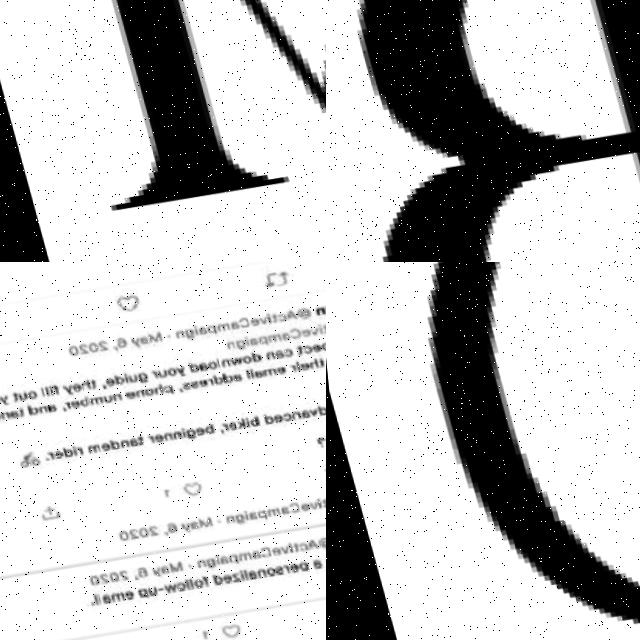0: (83, 342, 94, 352), (63, 345, 74, 355), (129, 526, 139, 537), (79, 573, 90, 583), (109, 530, 119, 540), (99, 570, 109, 580)
1: (192, 629, 199, 638), (157, 487, 163, 496)
2: (89, 571, 99, 582), (93, 340, 103, 350), (139, 525, 149, 535), (119, 528, 129, 538), (73, 343, 82, 354), (109, 568, 118, 578)
6: (111, 337, 122, 347), (127, 566, 138, 576), (158, 521, 168, 531)
A: (297, 537, 312, 548), (281, 308, 292, 319), (294, 407, 305, 417), (248, 367, 258, 377), (122, 436, 132, 446), (225, 320, 235, 329), (193, 325, 203, 334), (277, 330, 287, 339), (244, 336, 254, 345), (270, 348, 280, 357), (193, 361, 203, 370), (3, 409, 13, 418), (181, 520, 191, 529), (242, 549, 252, 558), (151, 564, 161, 573), (304, 557, 313, 567), (238, 568, 248, 577), (92, 593, 102, 602), (135, 335, 144, 344), (228, 371, 237, 380), (41, 402, 50, 411), (273, 505, 282, 514), (210, 554, 219, 563), (241, 511, 250, 518), (320, 403, 326, 412)
B: (242, 415, 253, 425), (74, 395, 83, 405), (198, 422, 207, 432)
C: (285, 326, 298, 338), (234, 316, 247, 327), (279, 501, 292, 512), (251, 544, 264, 554), (278, 347, 289, 356), (289, 541, 300, 550), (298, 344, 308, 353), (276, 411, 286, 420), (273, 311, 282, 320), (319, 495, 326, 504), (323, 321, 326, 330)
D: (108, 372, 120, 384), (256, 412, 268, 424), (208, 372, 218, 383), (246, 350, 256, 360), (184, 361, 194, 371), (217, 371, 227, 381), (23, 403, 33, 413), (311, 403, 321, 413), (103, 438, 113, 448), (56, 446, 66, 456), (203, 573, 213, 583)
E: (246, 316, 256, 326), (306, 342, 317, 351), (221, 420, 232, 429), (147, 432, 158, 441), (295, 360, 305, 369), (271, 364, 281, 373), (193, 377, 203, 386), (120, 389, 130, 398), (267, 412, 277, 421), (94, 442, 104, 451), (47, 449, 57, 458), (292, 501, 302, 510), (280, 561, 290, 570), (212, 573, 222, 582), (297, 327, 306, 336), (100, 377, 109, 386), (66, 382, 75, 391), (189, 425, 198, 434), (263, 545, 272, 554), (114, 589, 123, 598), (64, 399, 74, 406)
F: (46, 384, 54, 394), (192, 574, 199, 584)
G: (181, 328, 191, 338), (231, 338, 241, 348), (133, 372, 143, 382), (179, 428, 189, 438), (227, 513, 237, 523), (196, 557, 206, 567), (321, 303, 326, 313)
H: (75, 378, 85, 389), (304, 356, 314, 366), (148, 382, 157, 392), (322, 352, 326, 362)
I: (240, 334, 246, 345), (118, 372, 124, 382), (289, 359, 295, 369), (189, 325, 195, 334), (312, 323, 318, 332), (43, 386, 49, 395), (243, 367, 249, 376), (238, 416, 244, 425), (173, 427, 179, 436), (65, 445, 71, 454), (205, 553, 211, 562), (230, 569, 236, 578), (309, 497, 315, 506), (263, 313, 268, 322), (236, 510, 241, 519), (280, 541, 285, 549), (88, 594, 92, 602)
K: (230, 417, 239, 427)
L: (34, 386, 40, 396), (39, 386, 45, 395), (239, 368, 245, 377), (83, 593, 89, 602), (211, 357, 215, 366), (234, 568, 238, 577), (179, 577, 183, 586), (176, 578, 180, 586)
M: (0, 0, 326, 223), (80, 442, 95, 453), (143, 331, 158, 342), (159, 560, 174, 571), (211, 322, 227, 332), (228, 550, 244, 560), (99, 591, 115, 601), (263, 332, 278, 342), (189, 516, 204, 526), (257, 366, 273, 374), (82, 396, 98, 404), (257, 507, 273, 515), (315, 554, 326, 564)
N: (311, 305, 321, 314), (171, 329, 181, 338), (221, 340, 231, 349), (130, 388, 140, 397), (32, 404, 42, 413), (285, 409, 295, 418), (166, 429, 175, 439), (113, 438, 123, 447), (216, 357, 225, 366), (156, 431, 165, 440), (106, 392, 116, 399), (186, 559, 196, 566), (247, 568, 257, 575), (262, 351, 271, 358), (217, 515, 226, 522), (0, 410, 2, 418)
O: (420, 262, 640, 629), (203, 359, 212, 369), (162, 366, 172, 375), (256, 565, 266, 574), (185, 577, 194, 586), (167, 580, 176, 589), (22, 390, 32, 397), (138, 387, 148, 394), (237, 355, 246, 362)
P: (288, 560, 299, 570), (254, 335, 264, 345), (316, 340, 326, 350), (220, 553, 230, 563), (203, 324, 212, 334), (158, 383, 167, 393), (249, 509, 259, 518), (128, 588, 138, 597)
R: (57, 400, 65, 409), (40, 450, 47, 460), (285, 362, 292, 371), (215, 422, 222, 431), (141, 434, 148, 443), (69, 446, 76, 455), (274, 563, 281, 572), (146, 370, 153, 377), (202, 377, 208, 384)
S: (176, 380, 186, 389), (184, 378, 193, 387), (265, 564, 274, 573), (324, 338, 326, 347)
T: (317, 322, 325, 332), (266, 312, 274, 321), (318, 435, 326, 444), (292, 343, 299, 353), (6, 392, 13, 401), (314, 356, 321, 365), (11, 407, 18, 416), (313, 497, 320, 506), (85, 378, 91, 387), (132, 434, 138, 443), (284, 541, 290, 550)
U: (12, 391, 22, 400), (98, 394, 108, 401), (153, 369, 162, 376), (123, 374, 132, 381), (138, 586, 147, 593)
V: (305, 326, 315, 335), (302, 408, 312, 417), (271, 544, 280, 553), (254, 316, 264, 323), (301, 501, 310, 508)
W: (223, 355, 239, 365), (154, 583, 168, 591)
X: (323, 434, 326, 443)
Y: (170, 365, 180, 375), (58, 385, 68, 395), (126, 337, 136, 347), (143, 566, 153, 576), (173, 522, 182, 531)
Z: (221, 571, 231, 580)
